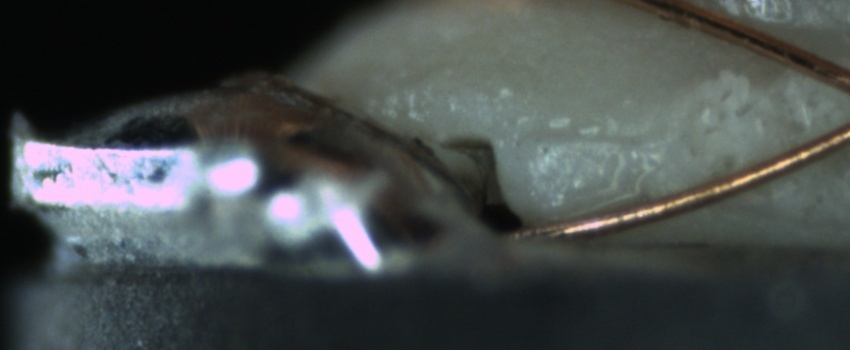DL: (525, 111, 660, 167)
